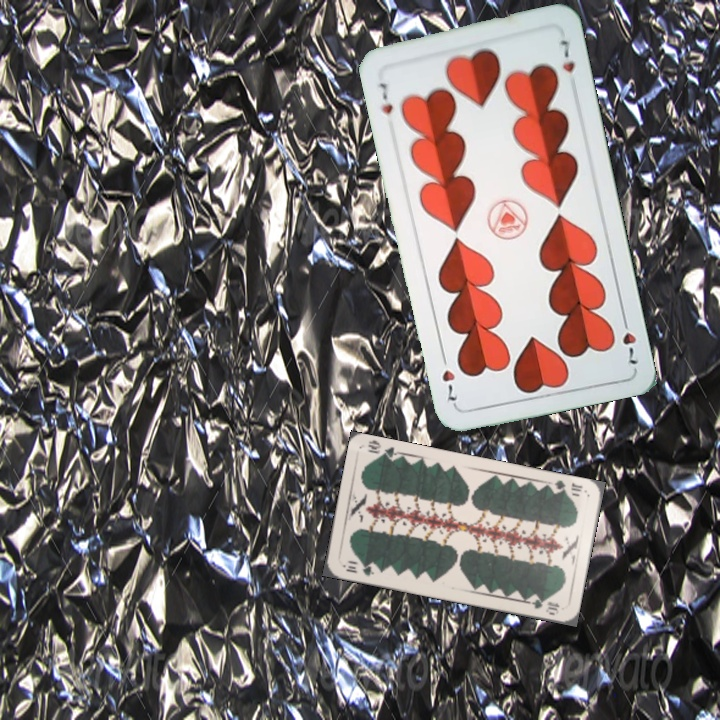G10: (550, 476, 585, 497), (339, 559, 377, 578)
H7: (618, 311, 640, 367), (375, 78, 396, 122)
